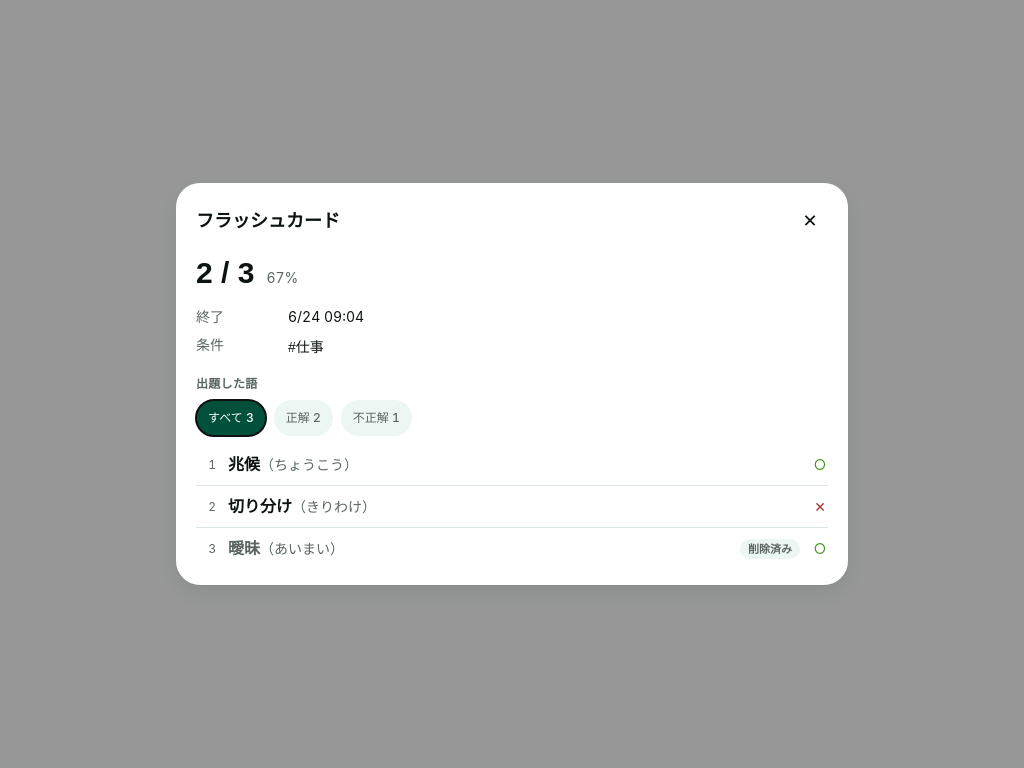
SessionDialog — the run, printed in full › narrows to the correct answers without losing their order
Click the button "正解 2" at (303, 418), box x1=274 y1=400 x2=333 y2=436
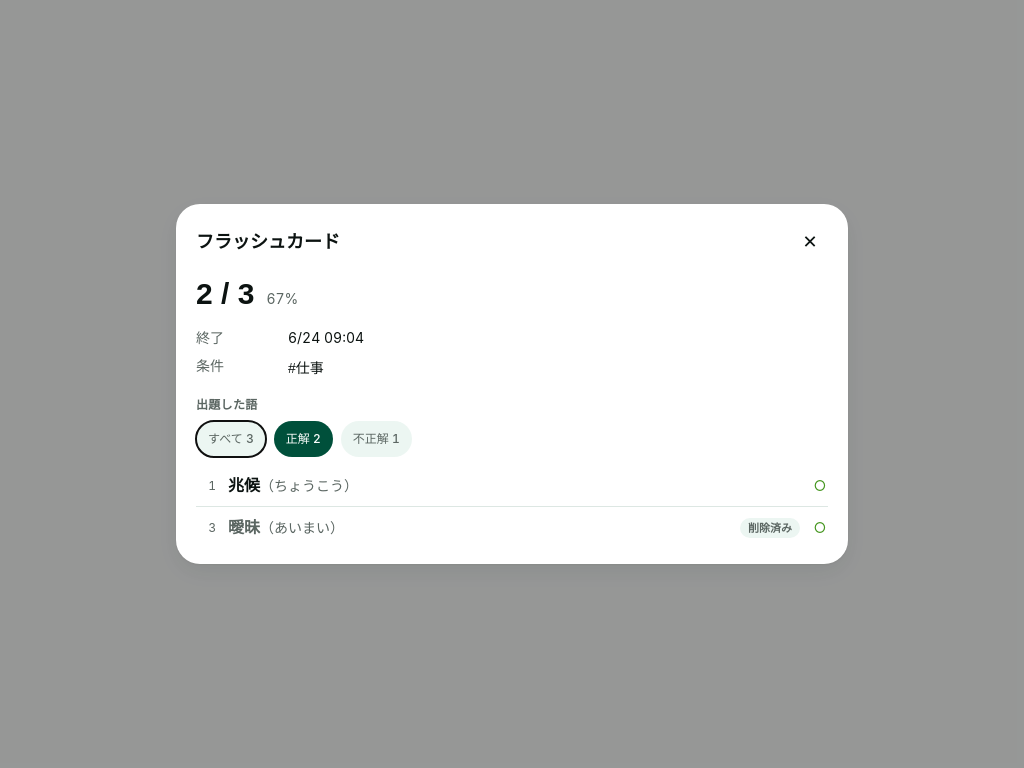
Check: the list items read "1兆候（ちょうこう）○", "3曖昧（あいまい）削除済み○", in this order, box x1=196 y1=465 x2=828 y2=507; x1=208 y1=518 x2=826 y2=538
